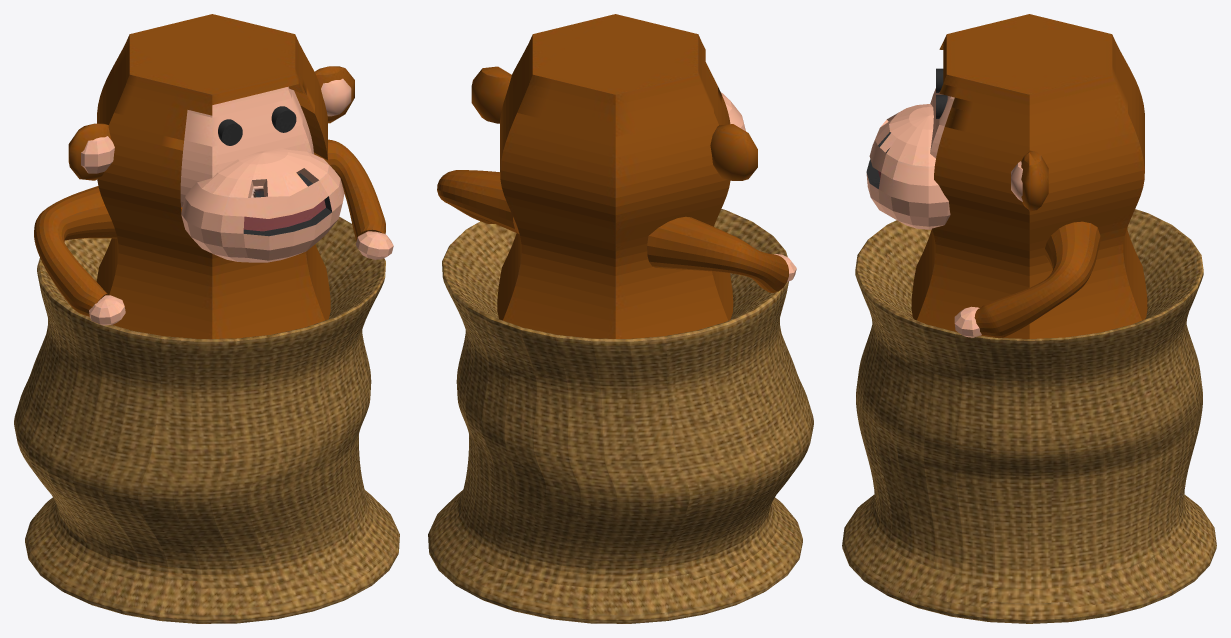
The model's file is OrangUtan.fbx.
3 views of the same model, side by side, from view 1: azimuth 30°, elevation 25°; view 2: azimuth 150°, elevation 25°; view 3: azimuth 270°, elevation 25° (orthographic).
Parts seen in each view (by area): view 1: orangutan_1; view 2: orangutan_1; view 3: orangutan_1.
Boxes of the visible parts, left/top/right/bottom form: orangutan_1: left=14, top=14, right=399, bottom=623; orangutan_1: left=428, top=14, right=813, bottom=623; orangutan_1: left=842, top=14, right=1216, bottom=623.
Bounding box in the file's own units: 765 × 1103 × 737.
1 material, 1 textured.
